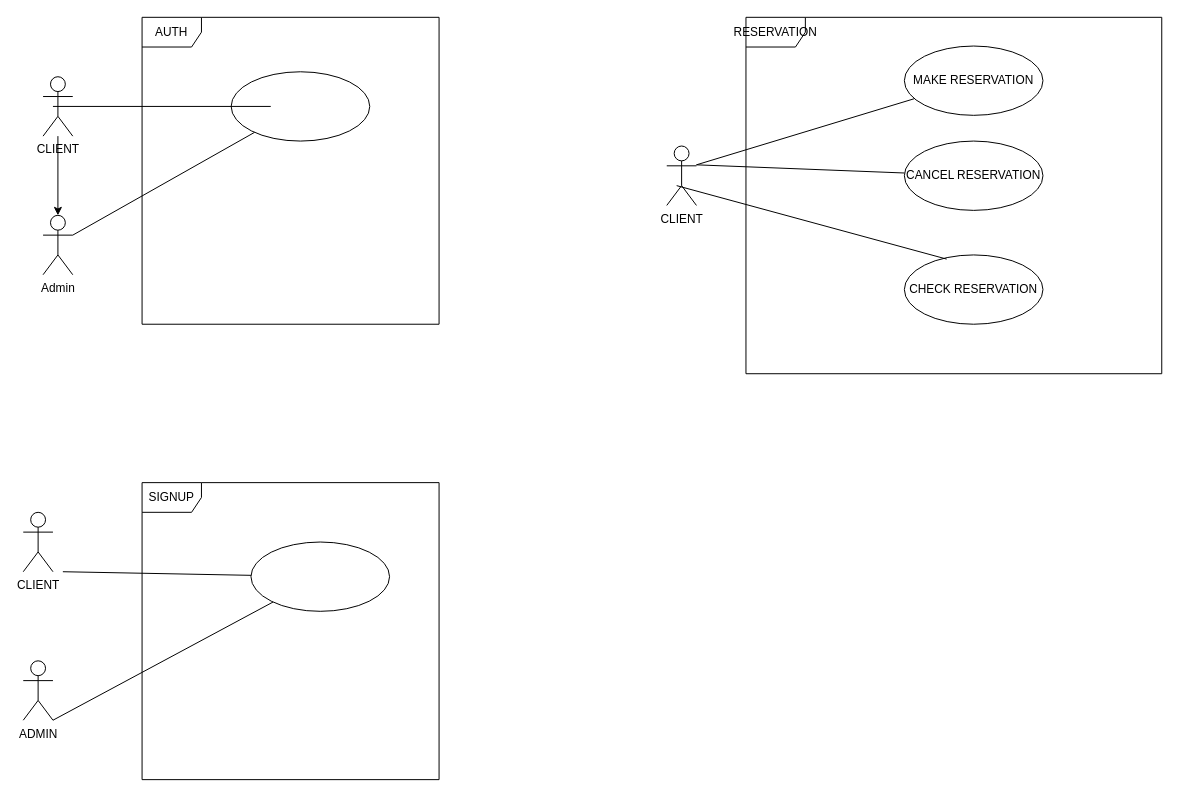
Some shapes in this 1179 by 797 pixel diagram are drawn without their labels. The shapes that lost their labels are listed below. From the top down, each one's centre as x and y in pixels, then its label:
the point at 300,106: LOG IN ACCONT
the point at 320,576: CREATE ACCOUNT
